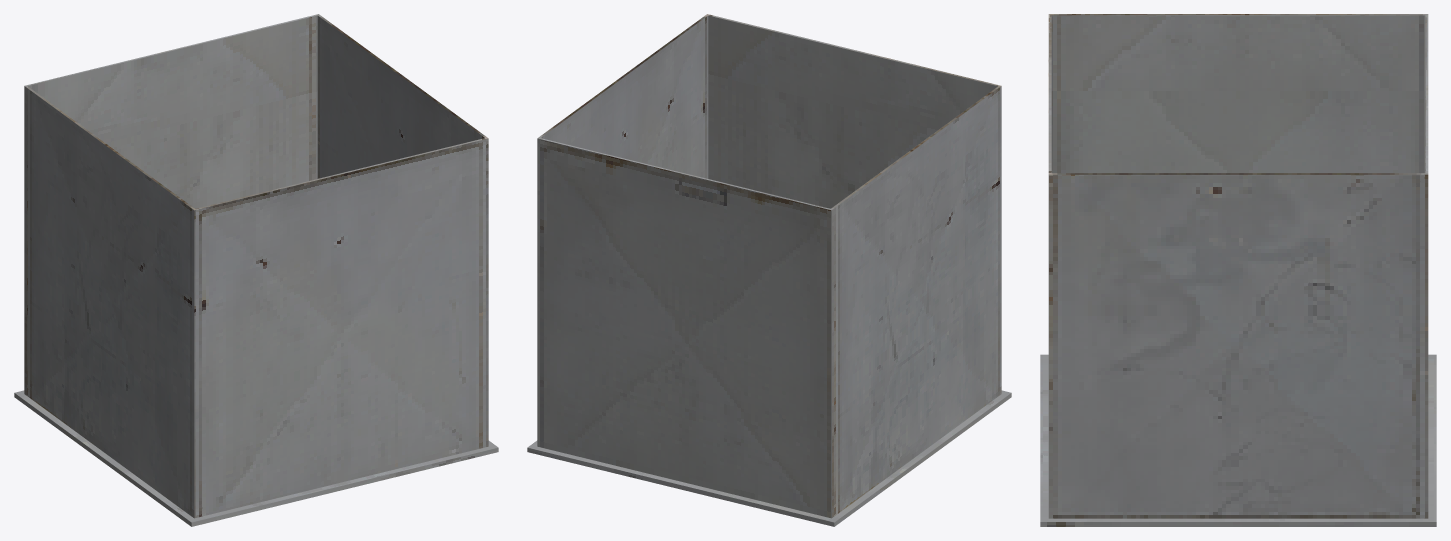
The model's file is vent_straight_single.glb.
3 renders of one model, left to right at view 1: azimuth 30°, elevation 25°; view 2: azimuth 150°, elevation 25°; view 3: azimuth 270°, elevation 25°, orthographic. The views are drawn at different scales.
Parts seen in each view (by area): view 1: straingt_single; view 2: straingt_single; view 3: straingt_single.
Boxes of the visible parts, x1,y1,x2,y2 form: straingt_single: (14, 14, 498, 526); straingt_single: (527, 14, 1011, 526); straingt_single: (1040, 14, 1436, 526).
Size of the model in its own units: 1.04 by 1.01 by 1.04.
1 material, 1 textured.
